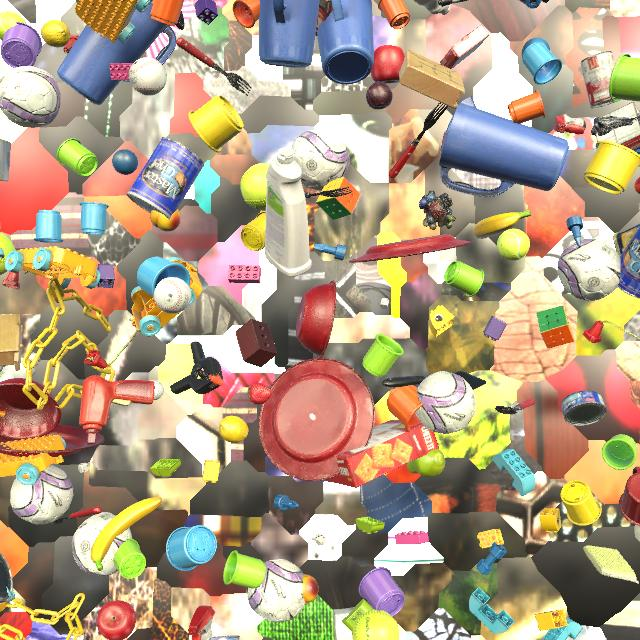ycb_002_master_chef_can: (127, 137, 204, 220), (617, 227, 640, 299), (0, 553, 13, 603)
ycb_003_cracker_box: (325, 420, 439, 488)
ycb_004_sugar_box: (333, 606, 372, 640), (0, 139, 11, 181)
ycb_005_tomato_soup_can: (581, 51, 616, 108)
ycb_007_tuna_fish_can: (561, 390, 607, 426), (210, 635, 240, 640)
ycb_008_pudding_box: (595, 101, 640, 151), (315, 0, 333, 36)
ycb_009_gelatin_box: (440, 25, 489, 69)
ycb_010_potted_meat_can: (613, 224, 640, 256)
ycb_011_banana: (91, 497, 162, 571), (473, 210, 531, 239)
ycb_012_strawberry: (247, 383, 271, 405)
ycb_013_apple: (97, 600, 136, 640), (371, 45, 405, 84)
ycb_014_lemon: (41, 20, 70, 47), (219, 416, 248, 443)
ycb_015_peach: (150, 208, 181, 232), (303, 574, 318, 605)
ycb_016_pear: (407, 449, 445, 477)
ycb_018_plum: (366, 82, 393, 110)
